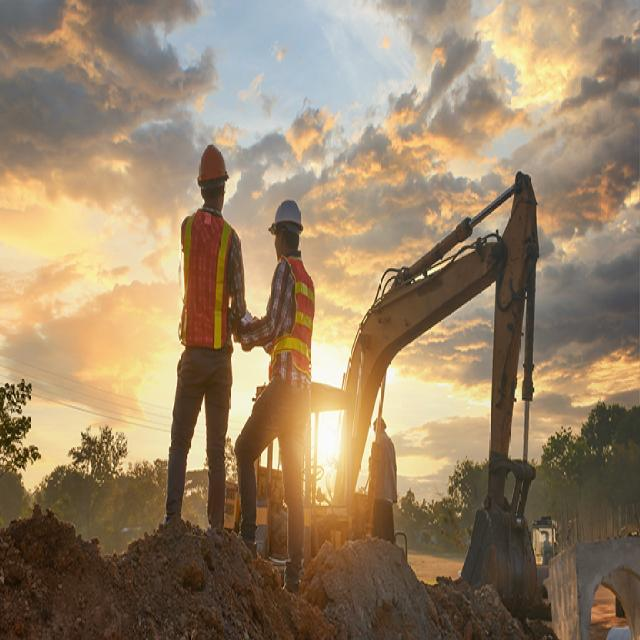Hard Hat: (266, 192, 310, 234), (193, 136, 230, 183)
Reflective Vest: (178, 206, 243, 353), (264, 250, 320, 382)
